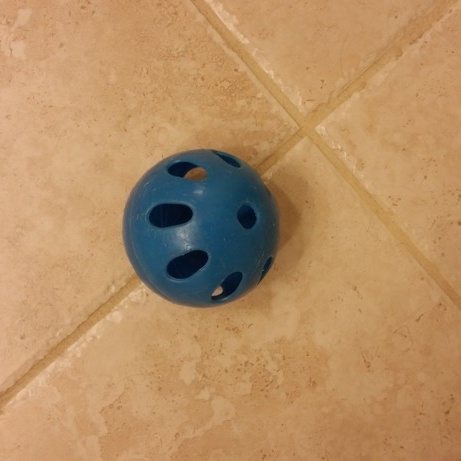blueball: (116, 146, 285, 312)
